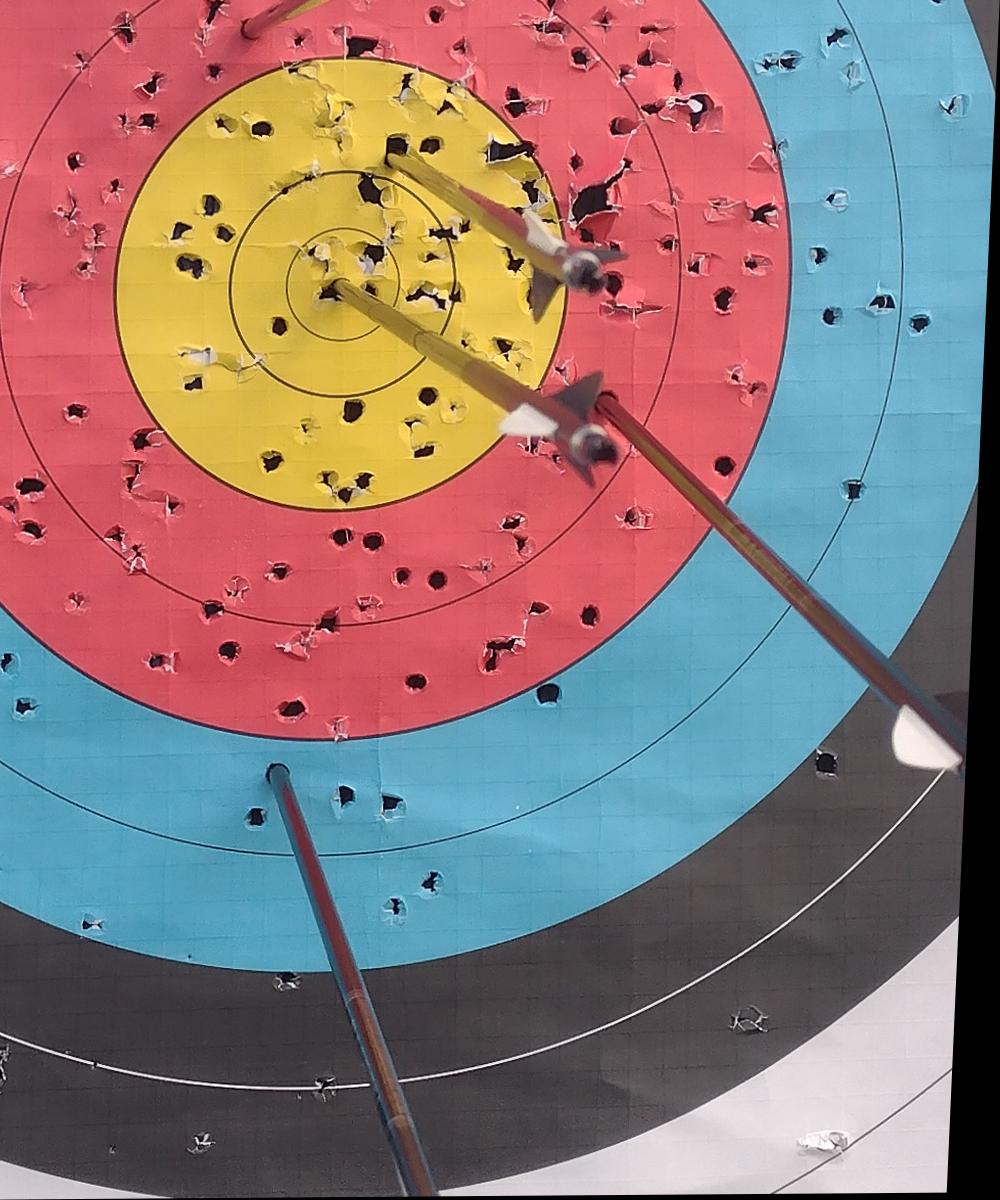10-Ring: (231, 171, 460, 402)
8-Ring: (0, 0, 680, 628)
9-Ring: (110, 50, 578, 521)
Arrow: (322, 225, 657, 495), (264, 763, 451, 1200), (354, 150, 633, 348)
